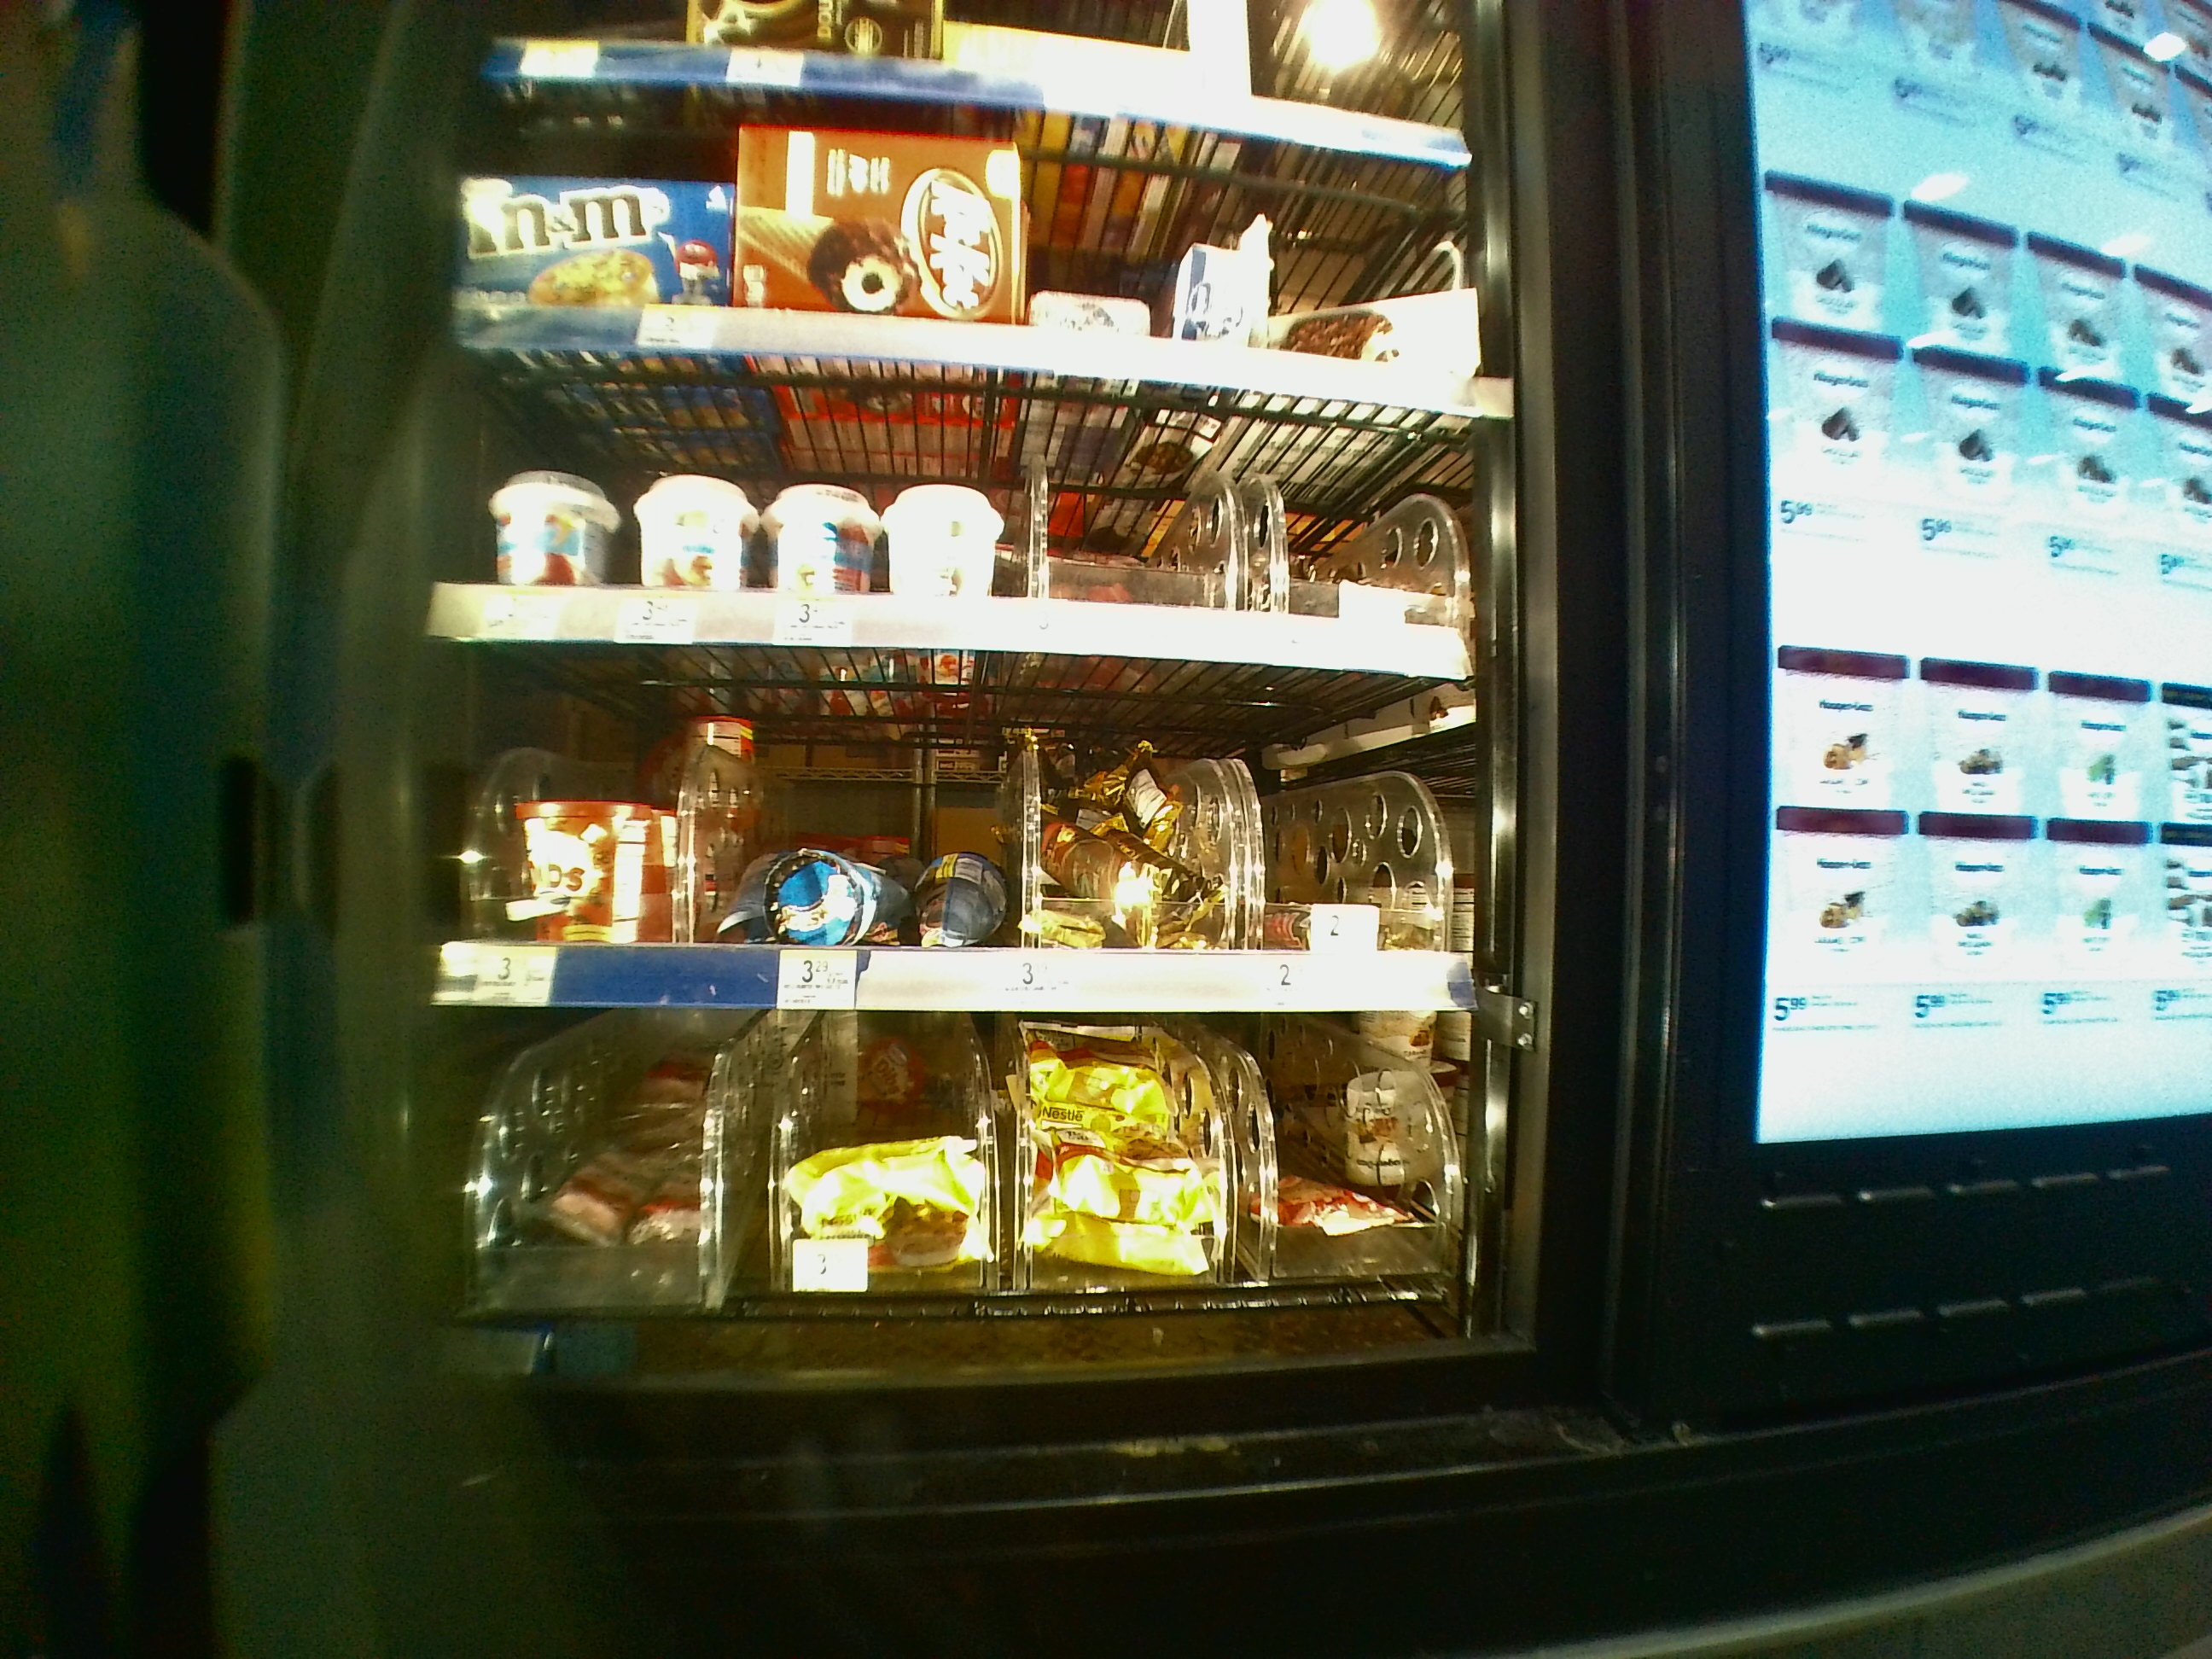shelf: (435, 1025, 1493, 1413), (432, 653, 1489, 1009), (425, 355, 1480, 641), (451, 84, 1498, 347)
